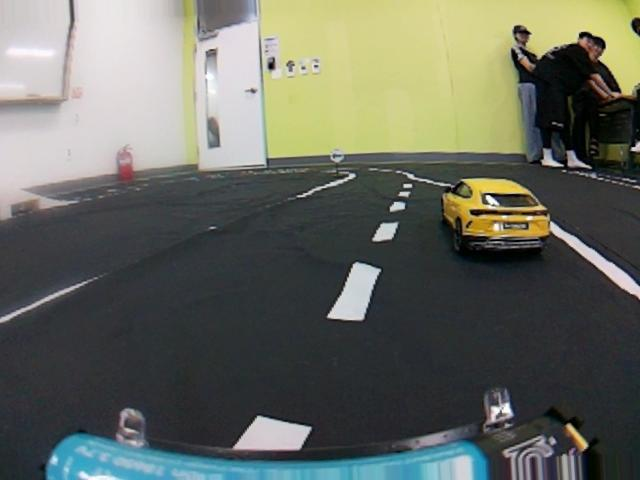car: (439, 168, 557, 261)
left: (5, 239, 639, 479)
